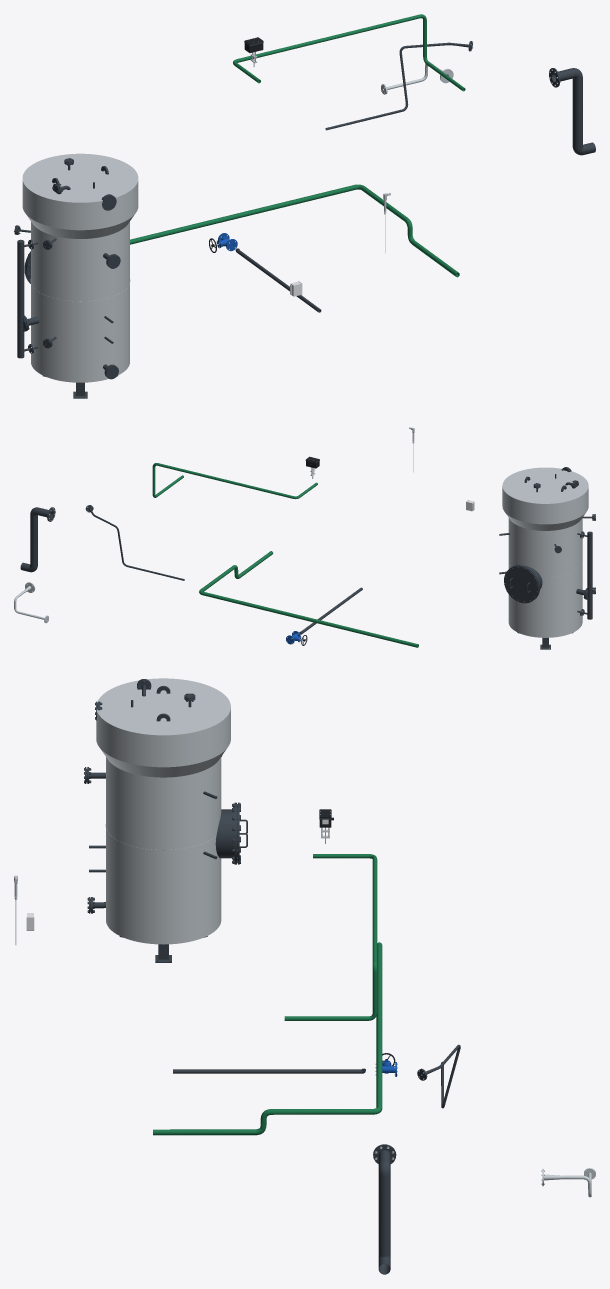
The picture shows the model from 3 angles, top to bottom: view 1: azimuth 30°, elevation 25°; view 2: azimuth 150°, elevation 25°; view 3: azimuth 270°, elevation 25°; orthographic projection. The views are drawn at different scales.
Visible parts, largest first — view 1: deaerator / shell, suction_common / green, bdv_water_drain / dark, to_direct / green, deaerator / dark, tds_without_fv / dark; view 2: deaerator / shell, suction_common / green, DA3 CAD 76, to_direct / green, bdv_water_drain / dark, deaerator / dark, tds_without_fv / dark; view 3: deaerator / shell, suction_common / green, bdv_water_drain / dark, to_direct / green, bottom_piping / dark, DA3 CAD 11.
Boxes of the visible parts, x1,y1,x2,y2 form: deaerator / shell: (22,153,138,382); suction_common / green: (130,184,459,277); bdv_water_drain / dark: (549,68,595,155); to_direct / green: (233,14,465,91); deaerator / dark: (17,239,37,358); tds_without_fv / dark: (325,41,472,130); deaerator / shell: (502,467,588,637); suction_common / green: (199,551,418,647); DA3 CAD 76: (504,566,538,603); to_direct / green: (152,463,309,499); bdv_water_drain / dark: (20,507,55,572); deaerator / dark: (577,531,592,619); tds_without_fv / dark: (85,505,184,580); deaerator / shell: (96,678,230,944); suction_common / green: (153,942,382,1135); bdv_water_drain / dark: (373,1144,396,1274); to_direct / green: (284,854,377,1020); bottom_piping / dark: (173,1068,365,1073); DA3 CAD 11: (215,809,234,858).
Bounding box in the file's own units: 8.55 × 2.82 × 5.53.
